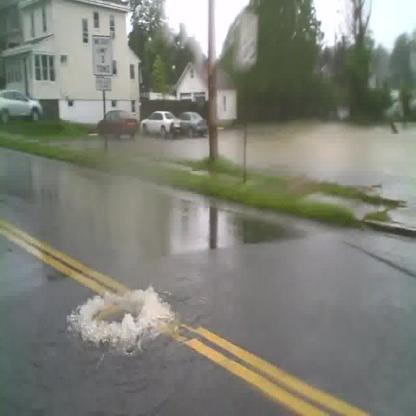drainage overflow-repair-: (72, 272, 176, 366)
